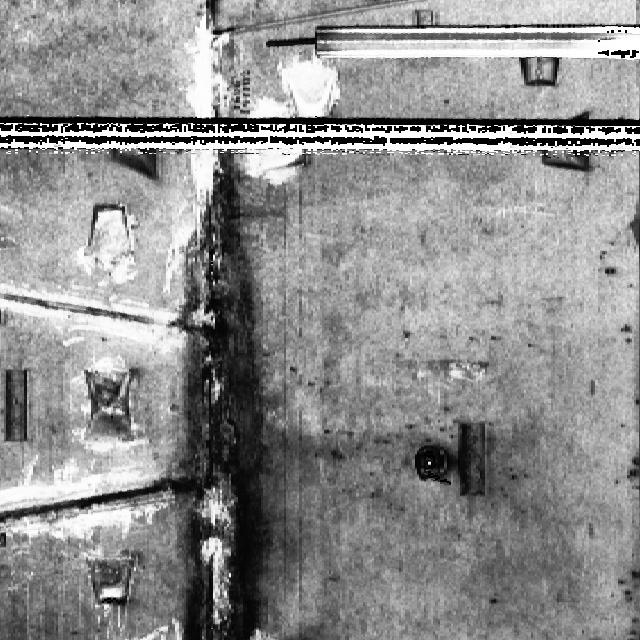leakage: (155, 151, 288, 638)
